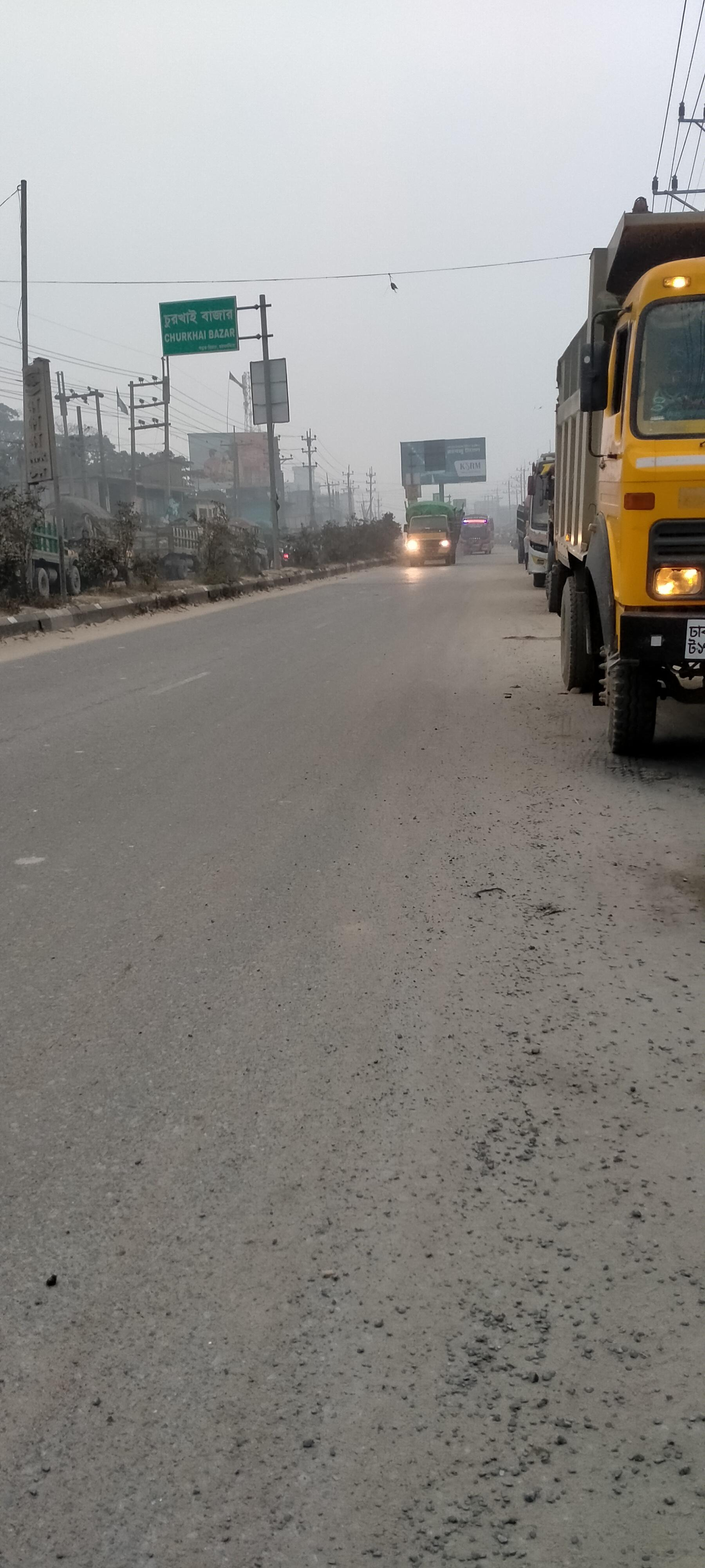Bus: (457, 508, 503, 560)
Truck: (529, 189, 698, 815), (393, 496, 463, 575)
